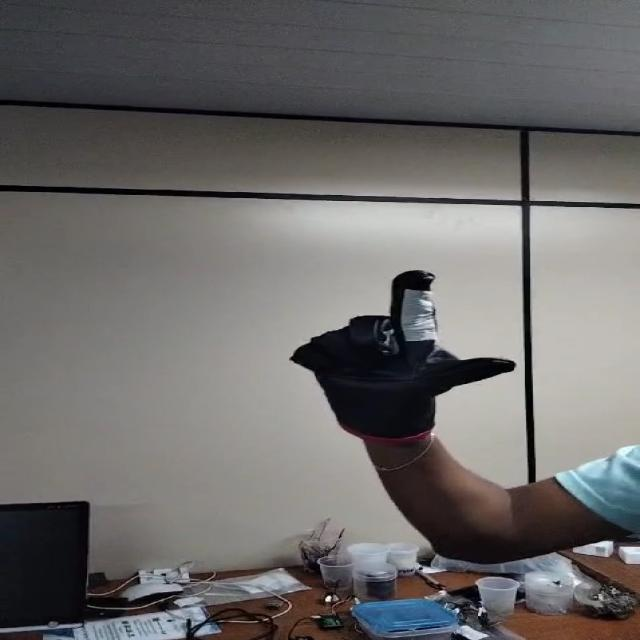Gloves: (288, 271, 512, 441)
